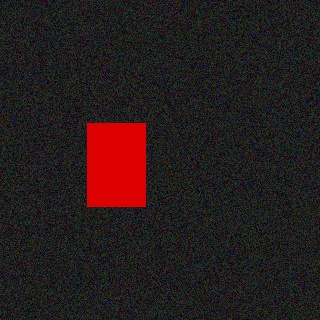red_barrel: (87, 124, 146, 206)
